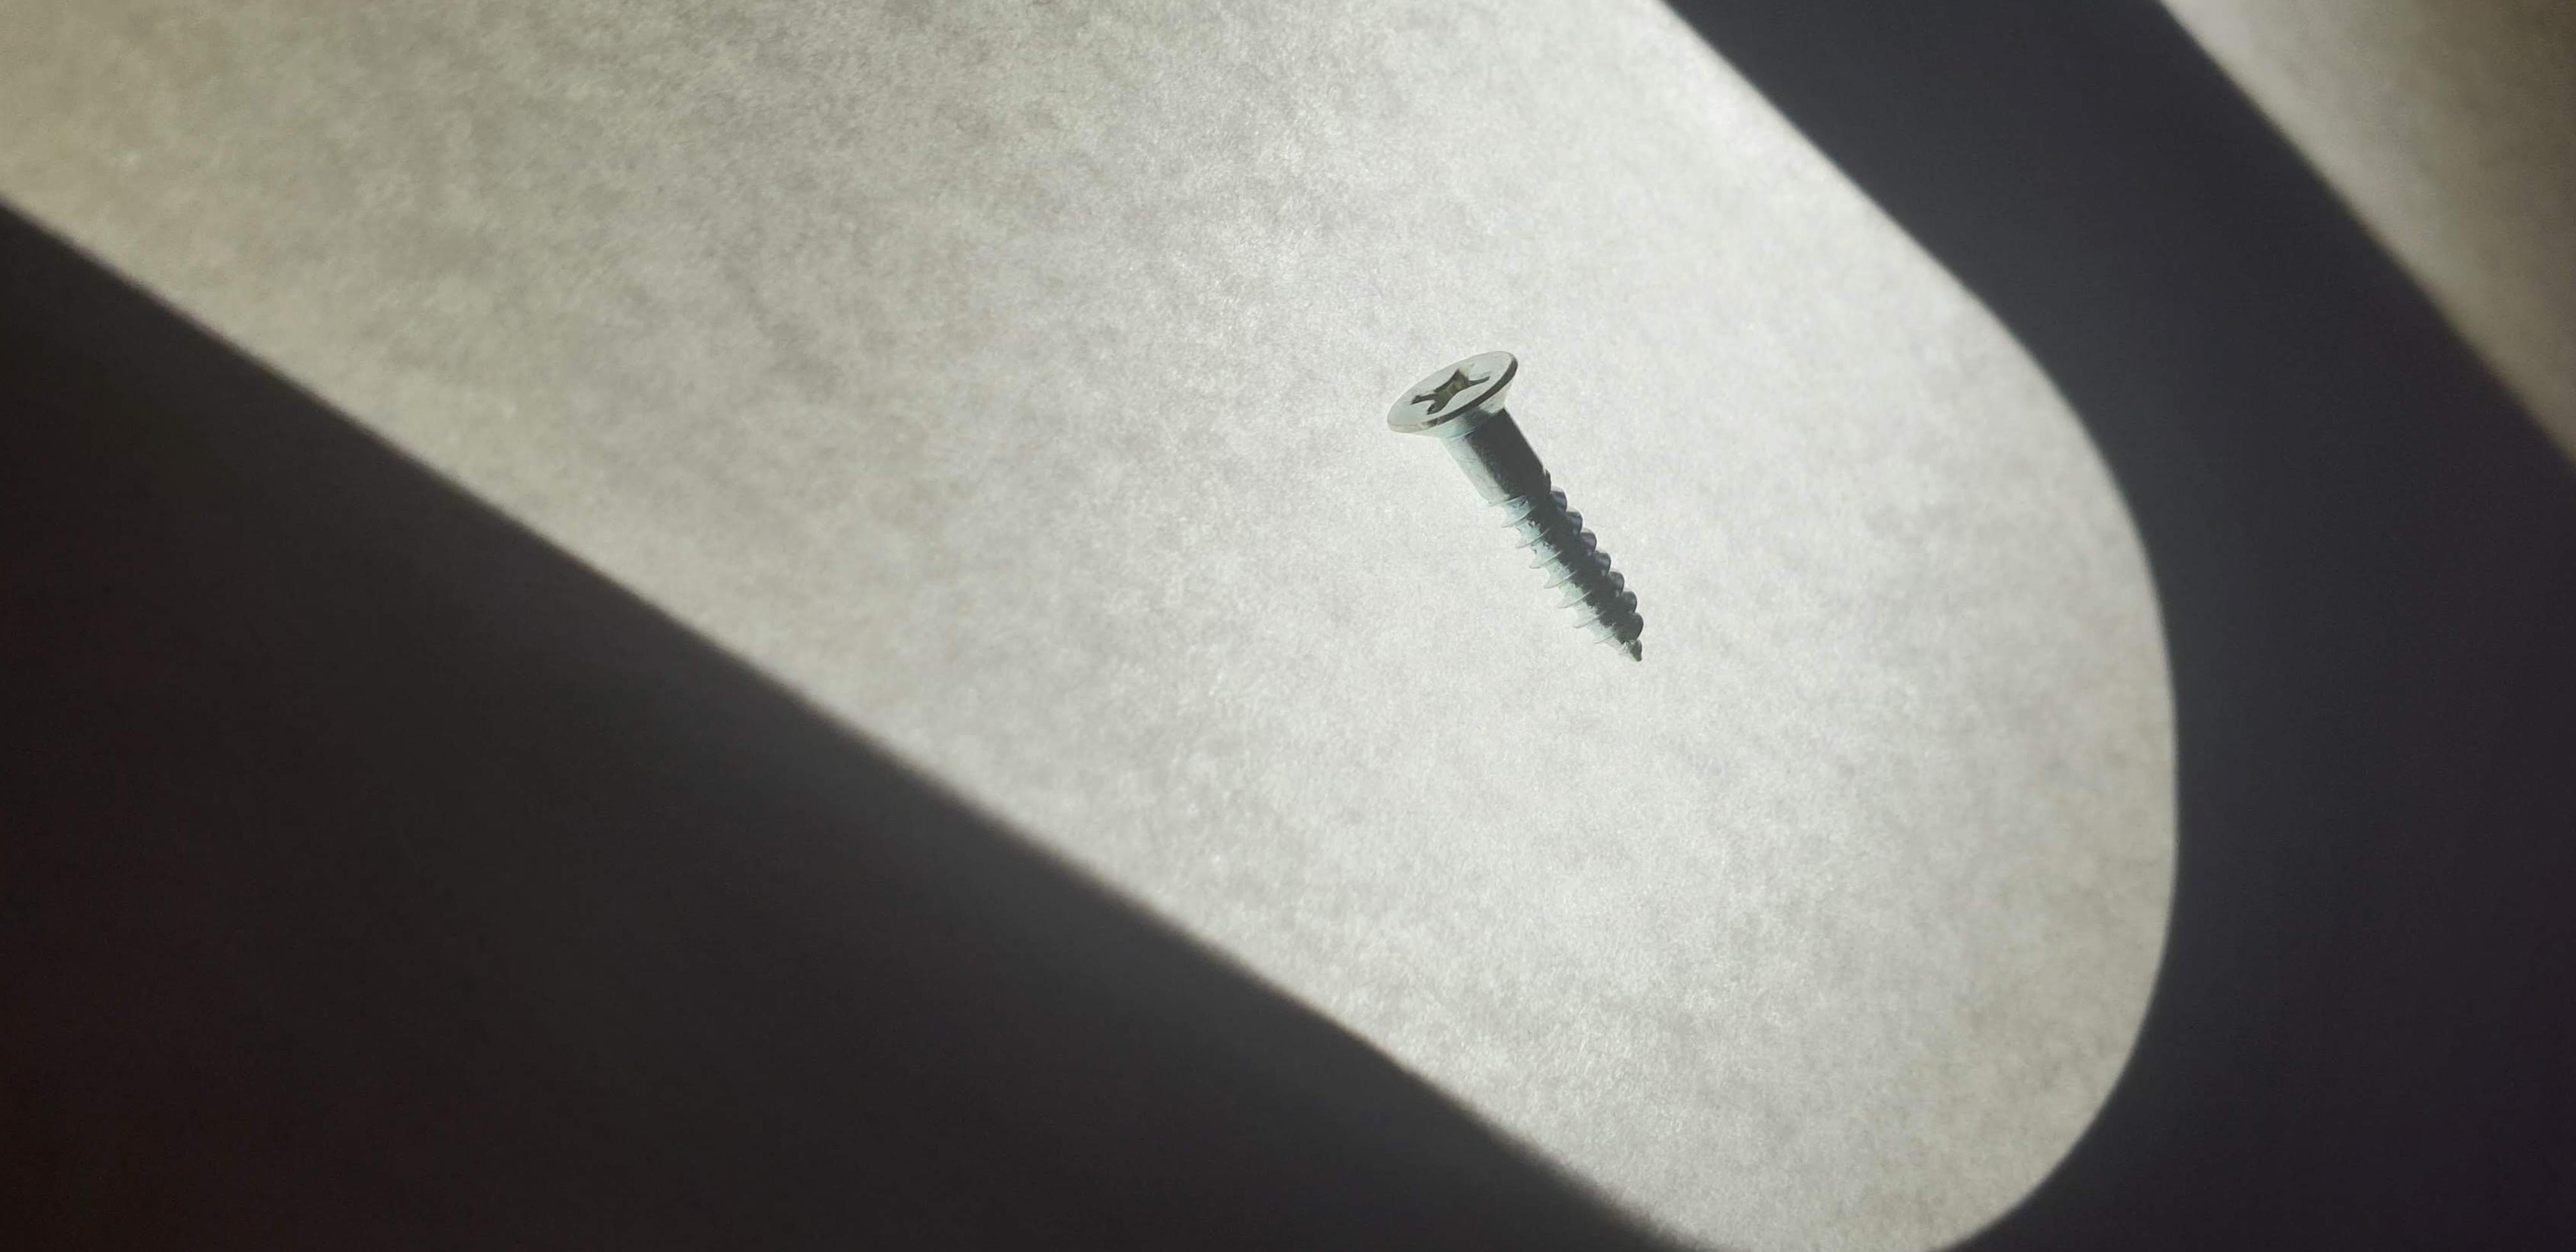S005: (1337, 299, 1694, 711)
